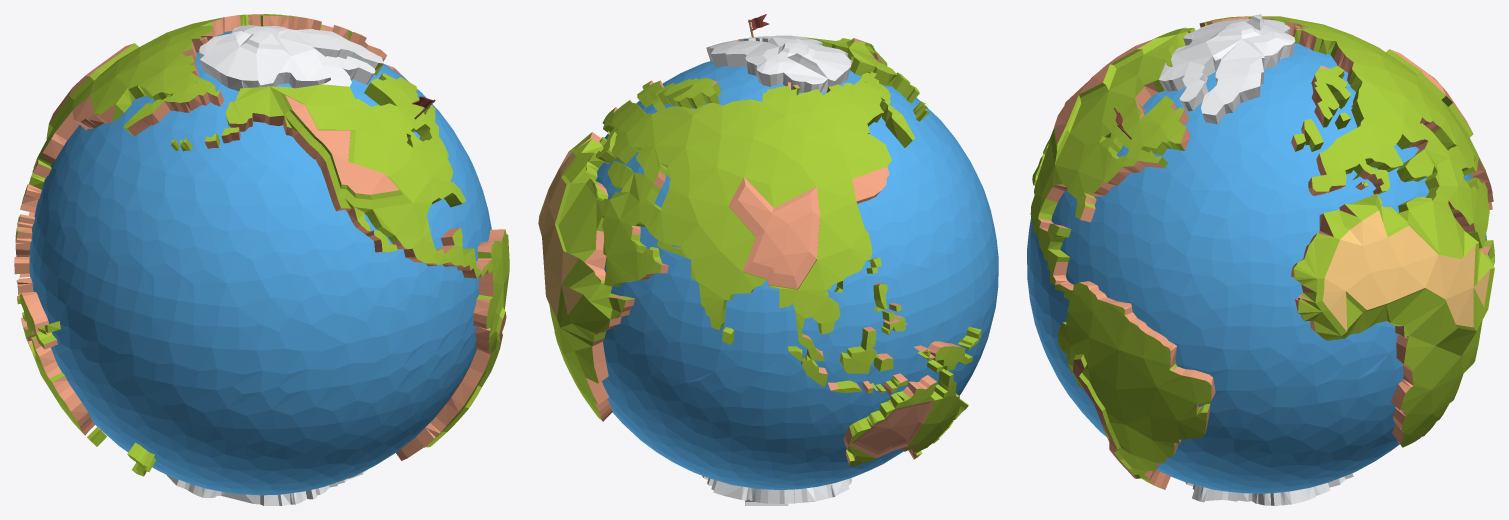
The model's file is globeFlag.glb.
3 views of the same model, side by side, from view 1: azimuth 30°, elevation 25°; view 2: azimuth 150°, elevation 25°; view 3: azimuth 270°, elevation 25° (orthographic). The views are drawn at different scales.
Visible parts, largest first — view 1: polyEarth; view 2: polyEarth; view 3: polyEarth.
Part boxes in pixels (<box>): polyEarth: <box>14,14,509,505</box>; polyEarth: <box>538,35,998,505</box>; polyEarth: <box>1027,14,1494,505</box>.
Size of the model in its own units: 2.09 by 2.23 by 2.02.
3 materials, 1 textured.
